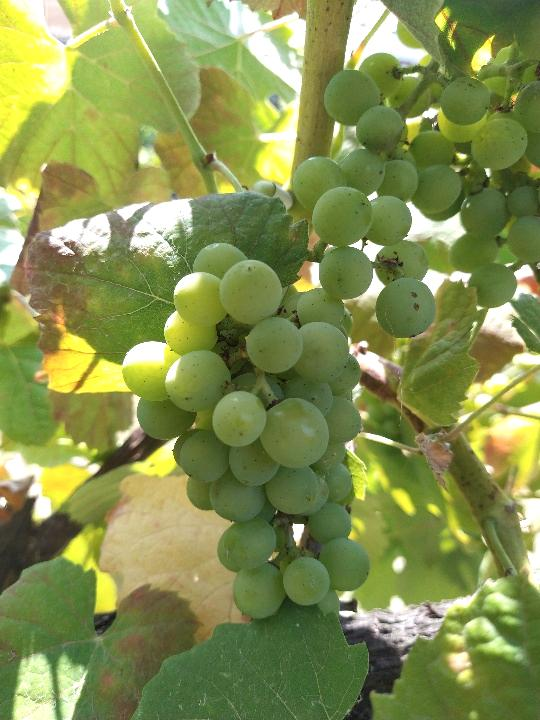grape: (118, 238, 371, 626), (289, 51, 533, 340)
